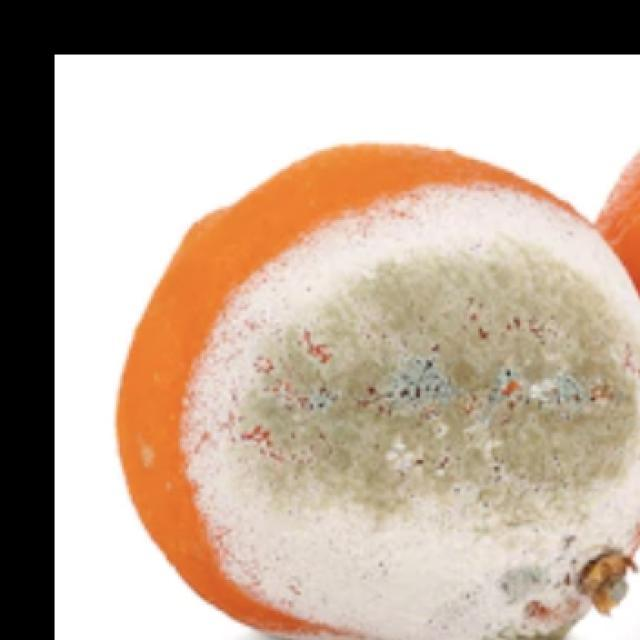sangat-busuk: (118, 145, 639, 639)
